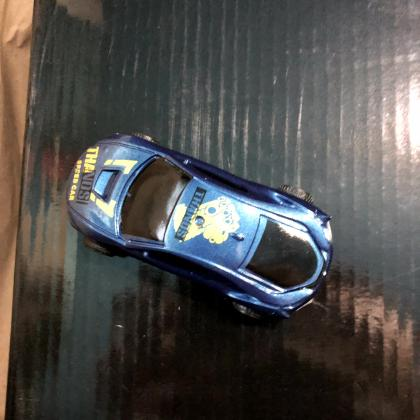Car: (63, 131, 337, 324)
